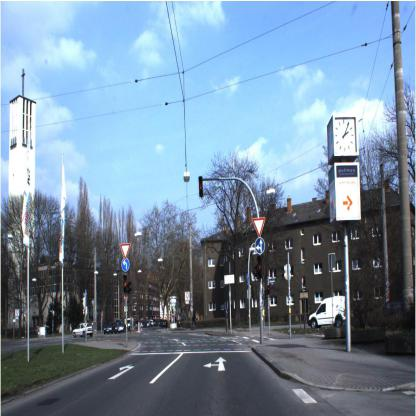mandatory: (254, 236, 267, 257), (119, 256, 131, 275), (244, 270, 251, 288)
other: (250, 214, 267, 238), (118, 239, 132, 258)
